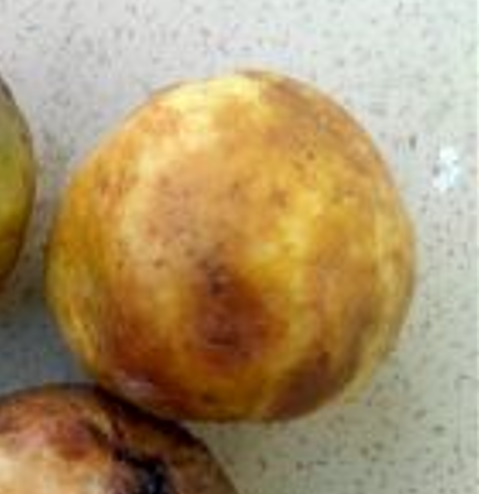guava_C: (43, 67, 417, 425)
